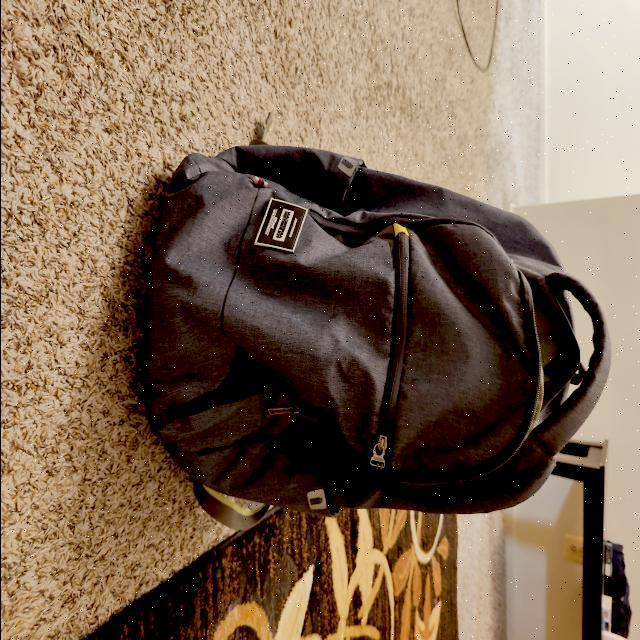bag: (137, 157, 602, 524)
